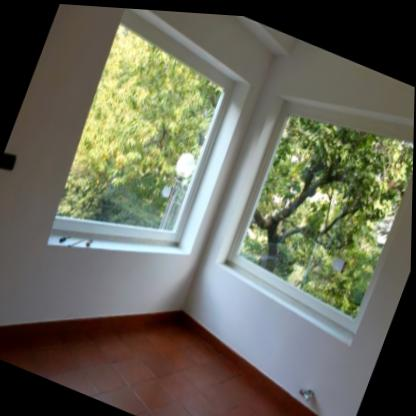Window: (51, 6, 252, 253), (228, 94, 414, 329)
